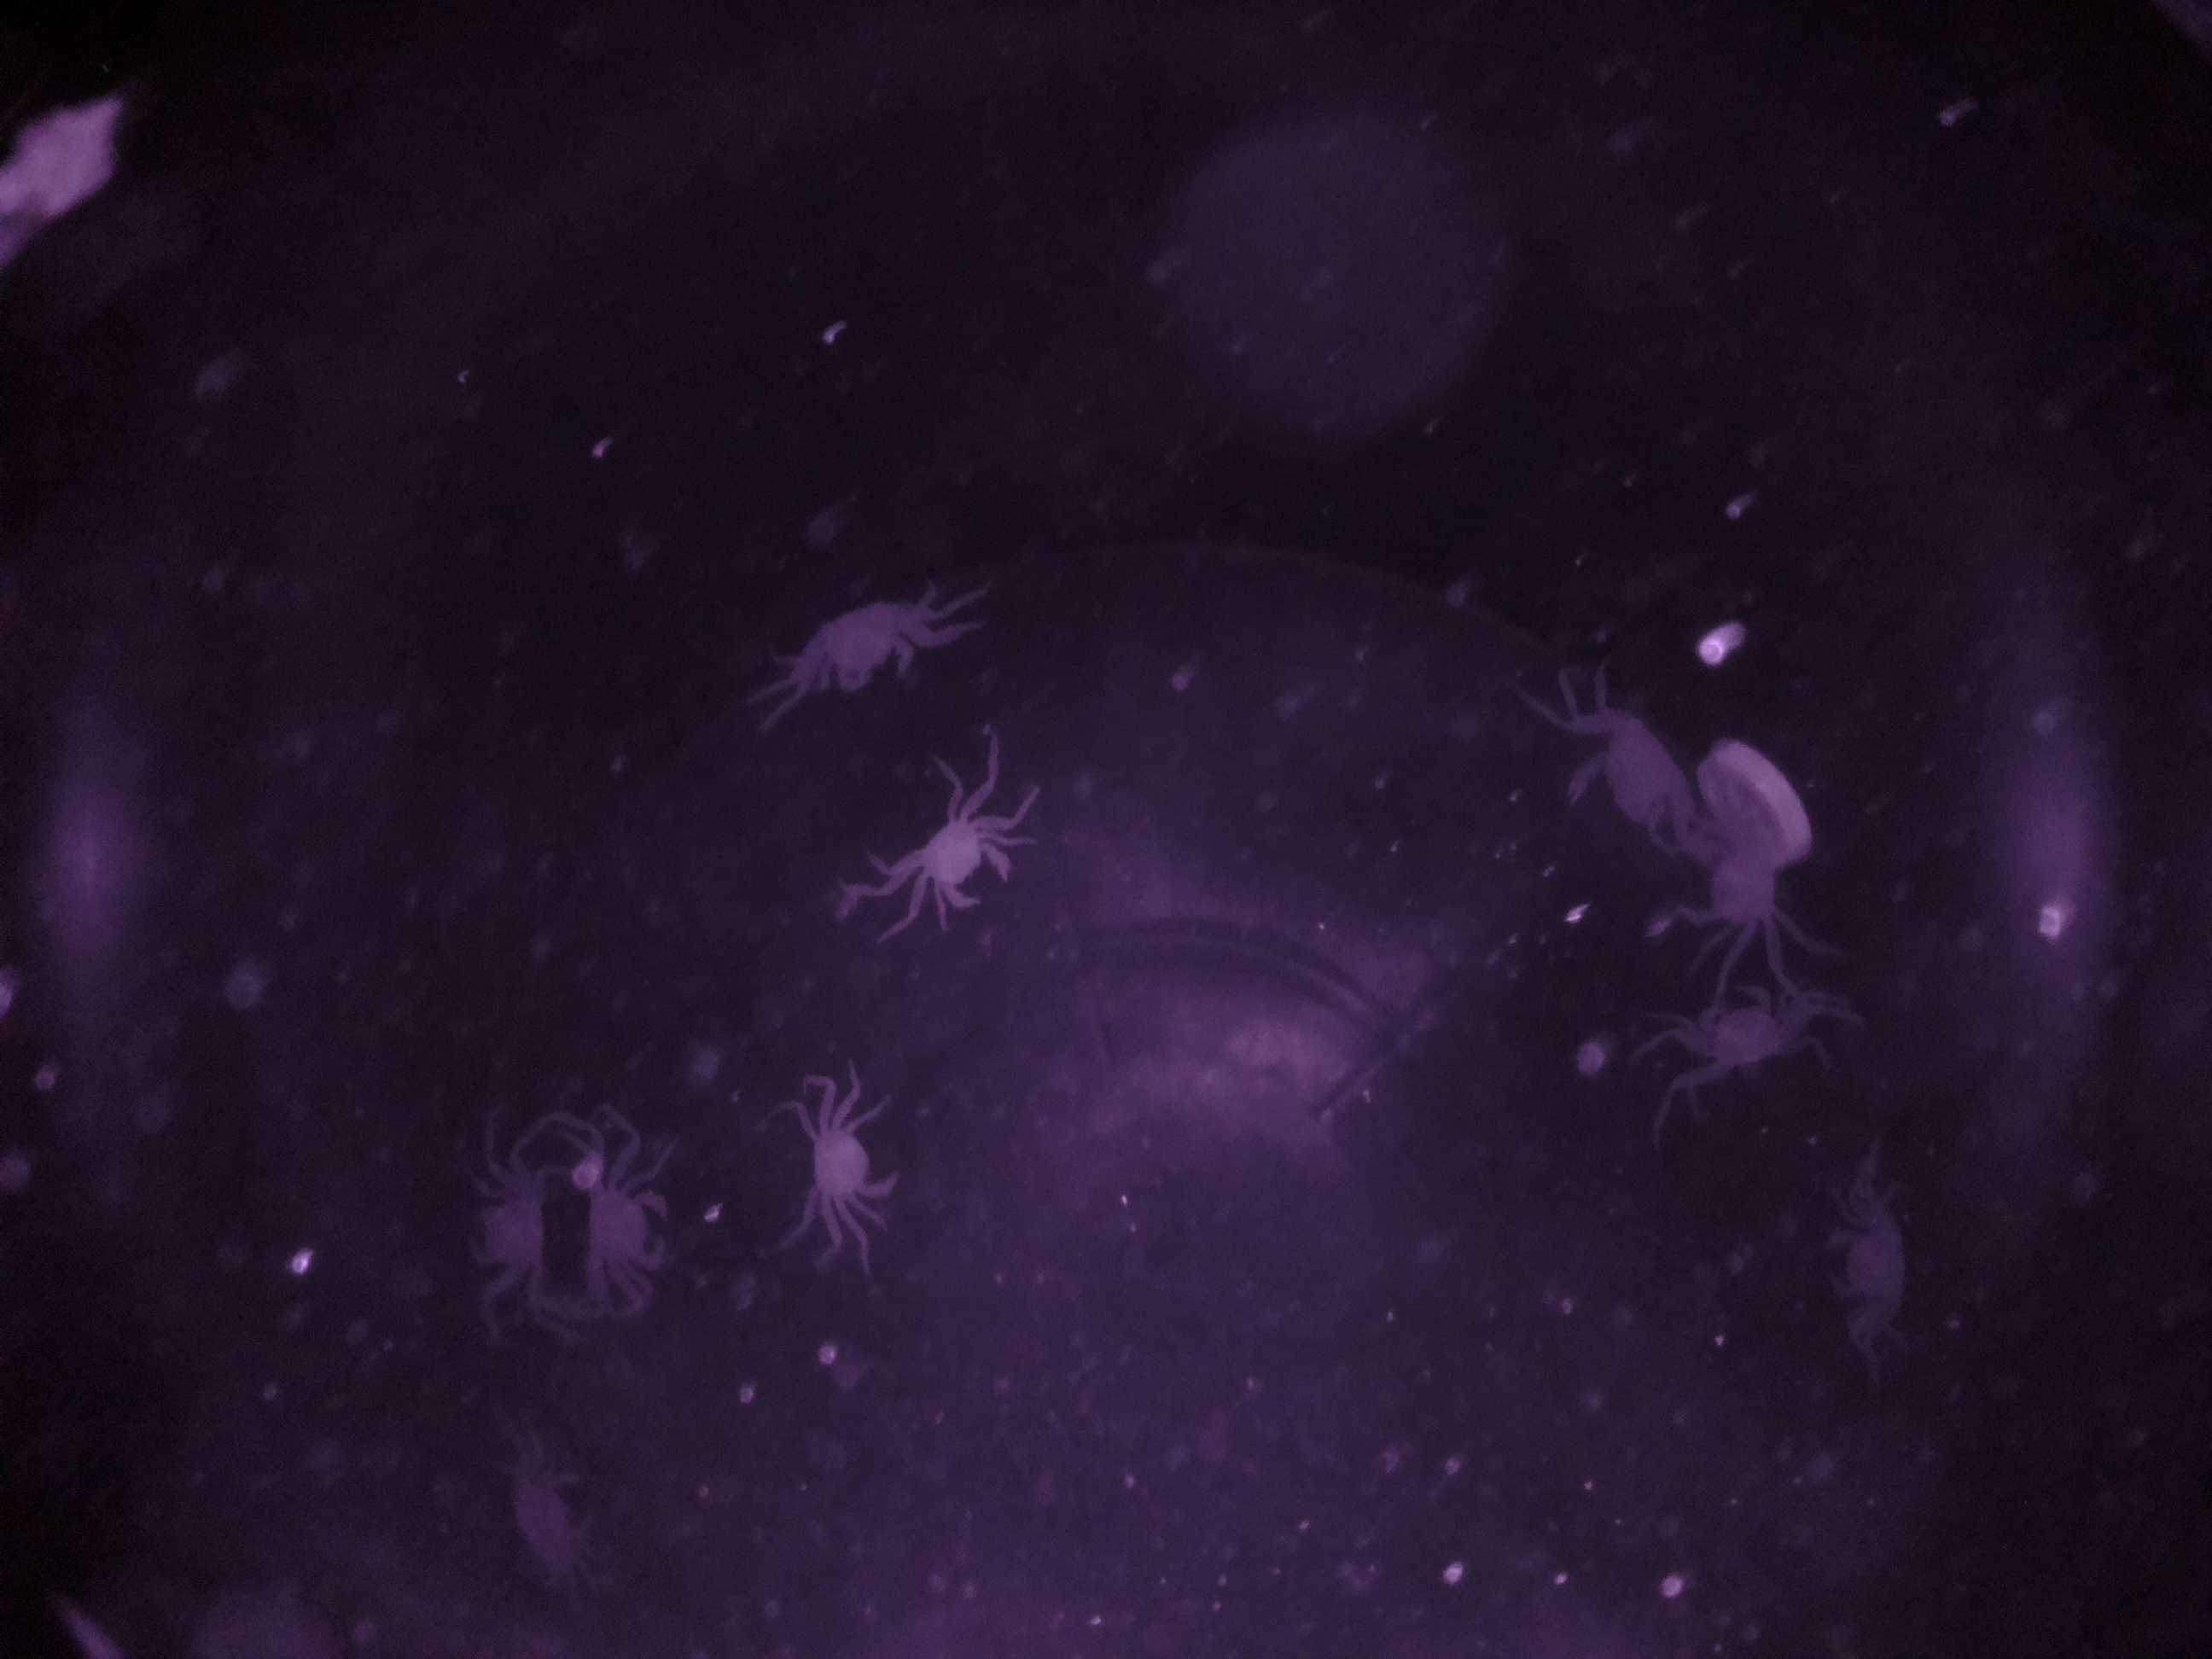Crab: (563, 1098, 702, 1347), (1555, 676, 1705, 885), (432, 1103, 563, 1338), (775, 1063, 927, 1253), (1663, 953, 1850, 1093), (766, 575, 946, 716), (892, 782, 1035, 941), (1803, 1162, 1923, 1347)
